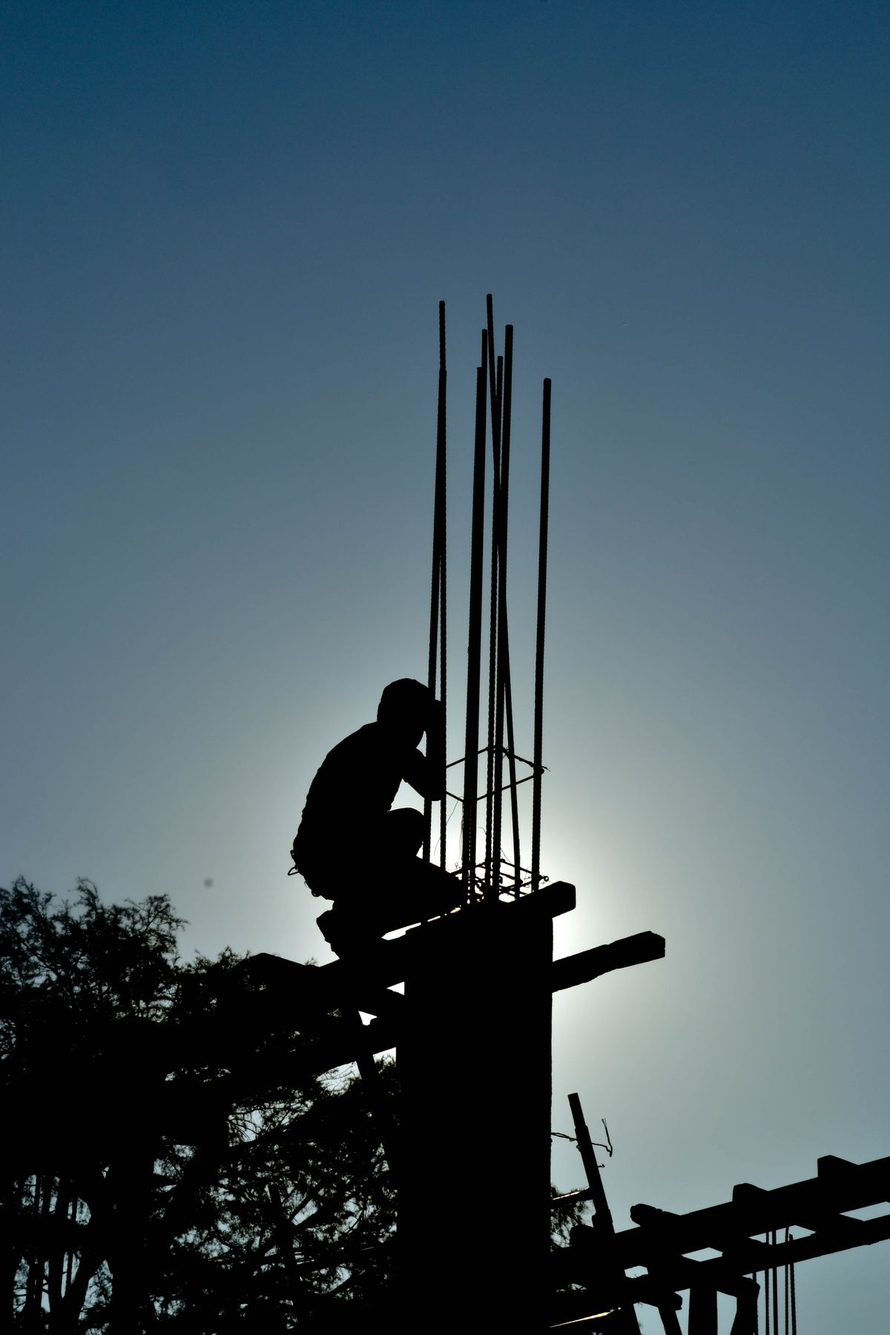person: (244, 654, 482, 974)
